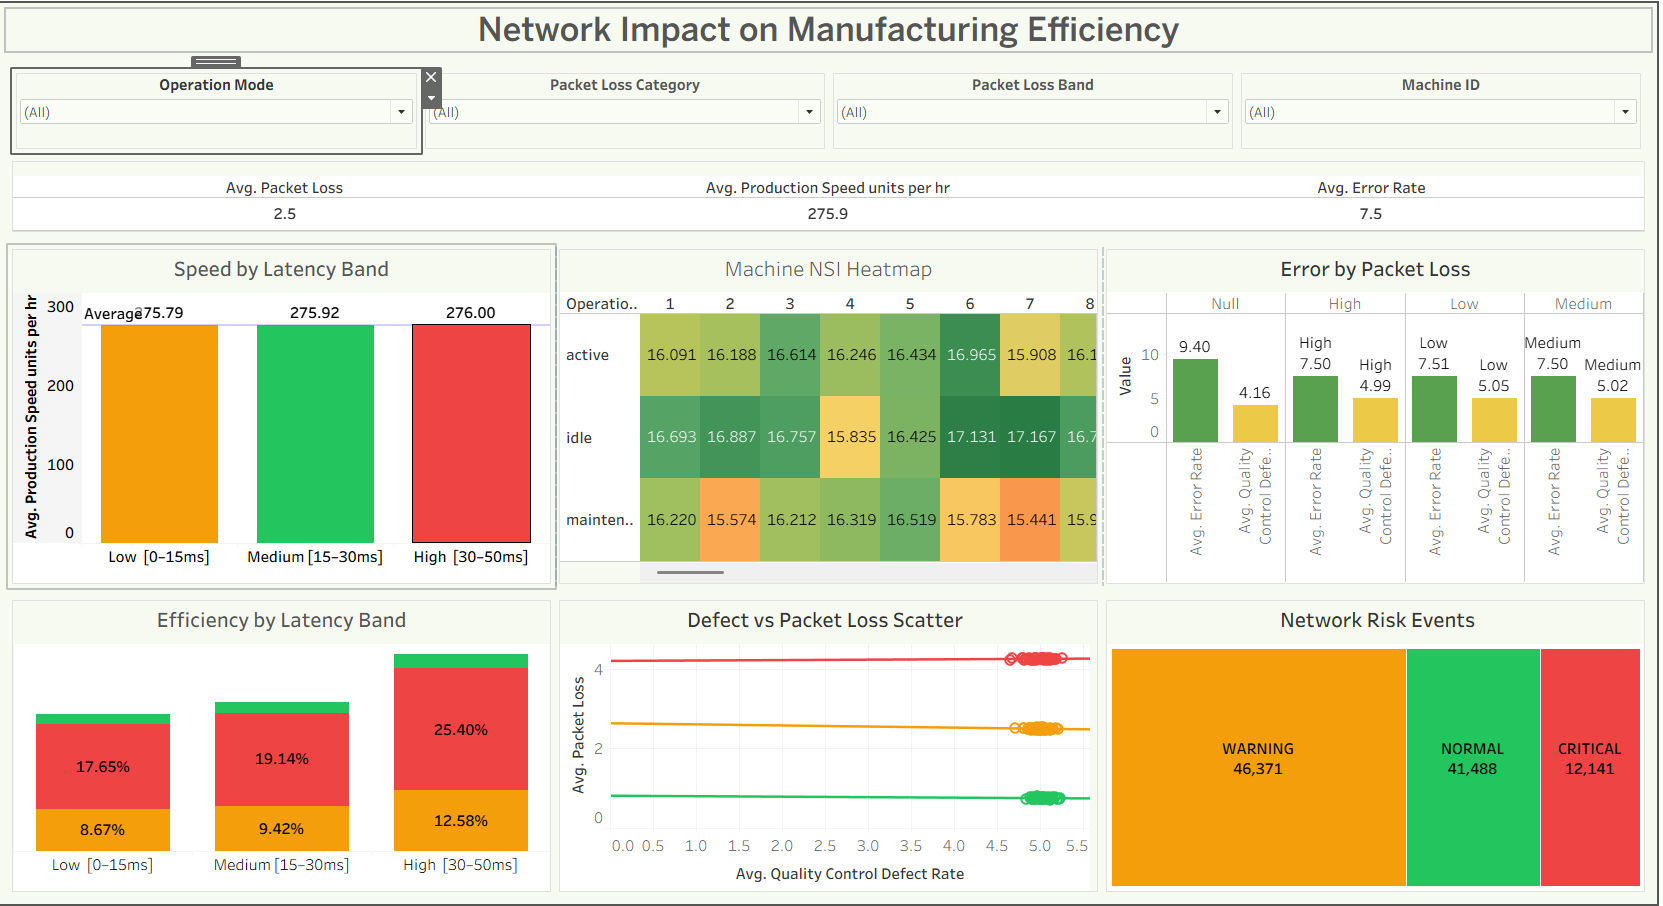

Layout of this report page (visuals, bound fields, positions):
{"tool":"tableau","page":{"name":"Network Impact on Manufacturing Efficiency","canvas":[1000,1000],"units":"permille","ordinal":1},"visuals":[{"type":"text","box":[6,10.9,988.1,58.4]},{"type":"filter","title":"Dashboard_2_KPI","param":"[federated.05kspbk1nwvd9m18ohf010eik7mn].[none:Operation_Mode:nk]","box":[13.1,82.5,243.9,91.2]},{"type":"filter","title":"Dashboard_2_KPI","param":"[federated.05kspbk1nwvd9m18ohf010eik7mn].[none:Packet_Loss_Category:nk]","box":[257,82.5,243.3,91.2]},{"type":"filter","title":"Dashboard_2_KPI","param":"[federated.05kspbk1nwvd9m18ohf010eik7mn].[none:Calculation_2494994251785220110:n","box":[500.3,82.5,243.3,91.2]},{"type":"filter","title":"Dashboard_2_KPI","param":"[federated.05kspbk1nwvd9m18ohf010eik7mn].[none:Machine_ID:ok]","box":[743.6,82.5,243.3,91.2]},{"type":"worksheet","title":"Dashboard_2_KPI","mark":"Automatic","box":[10.7,177.8,978.5,85.8]},{"type":"worksheet","title":"04 - Speed by Latency Band","mark":"Automatic","rows":["Production_Speed_units_per_hr"],"cols":["Calculation_2494994251104329729"],"box":[10.7,273.6,326.2,372.4]},{"type":"worksheet","title":"08 - Machine NSI Heatmap","mark":"Square","rows":["Operation_Mode"],"cols":["Machine_ID"],"box":[336.9,273.6,326.2,372.4]},{"type":"worksheet","title":"5-Error &  Defect Rate by Packet Loss Band","mark":"Automatic","cols":["Packet_Loss_Category"],"box":[663.1,273.6,326.2,372.4]},{"type":"worksheet","title":"12 - Efficiency by Latency Band","mark":"Automatic","rows":["Calculation_2494994251703922701"],"cols":["Calculation_2494994251104329729"],"box":[10.7,654.7,326.2,325.7]},{"type":"worksheet","title":"11 - Defect vs Packet Loss Scatter","mark":"Automatic","rows":["Packet_Loss"],"cols":["Quality_Control_Defect_Rate"],"box":[336.9,654.7,326.2,325.7]},{"type":"worksheet","title":"10 - Network Risk Events","mark":"Automatic","box":[663.1,654.7,326.2,325.7]}]}

Visuals, with their boxes on the dashboard's canvas, which has no fixed pixel size, in thousandths of its width and height (x1, y1, x2, y2). These are canvas units, not pixel positions in the 1663x906 screenshot, which may show the page scaled, cropped or inside an application window:
text: pyautogui.locateOnScreen(6, 11, 994, 69)
"Dashboard_2_KPI" filter: pyautogui.locateOnScreen(13, 82, 257, 174)
"Dashboard_2_KPI" filter: pyautogui.locateOnScreen(257, 82, 500, 174)
"Dashboard_2_KPI" filter: pyautogui.locateOnScreen(500, 82, 744, 174)
"Dashboard_2_KPI" filter: pyautogui.locateOnScreen(744, 82, 987, 174)
"Dashboard_2_KPI" worksheet: pyautogui.locateOnScreen(11, 178, 989, 264)
"04 - Speed by Latency Band" worksheet: pyautogui.locateOnScreen(11, 274, 337, 646)
"08 - Machine NSI Heatmap" worksheet (Square marks): pyautogui.locateOnScreen(337, 274, 663, 646)
"5-Error &  Defect Rate by Packet Loss Band" worksheet: pyautogui.locateOnScreen(663, 274, 989, 646)
"12 - Efficiency by Latency Band" worksheet: pyautogui.locateOnScreen(11, 655, 337, 980)
"11 - Defect vs Packet Loss Scatter" worksheet: pyautogui.locateOnScreen(337, 655, 663, 980)
"10 - Network Risk Events" worksheet: pyautogui.locateOnScreen(663, 655, 989, 980)
